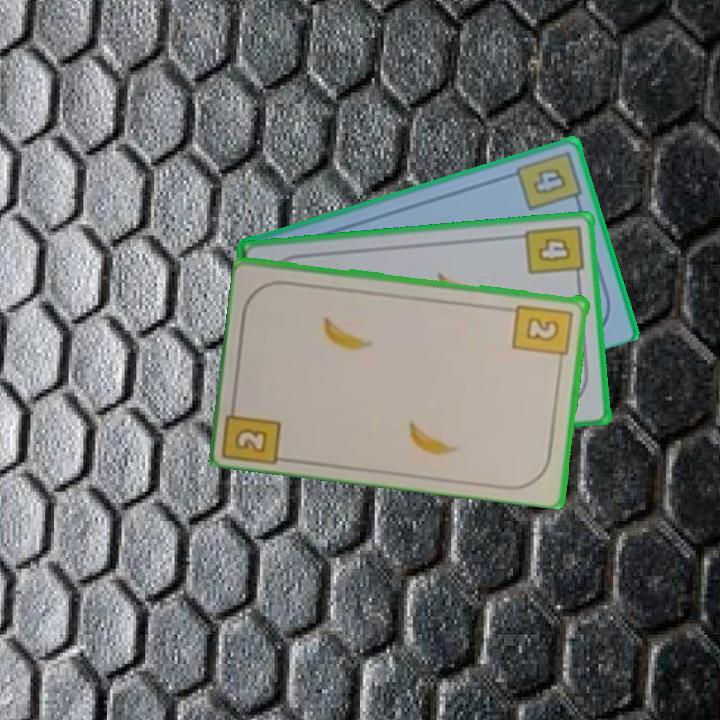2b: (222, 394, 285, 465), (510, 300, 576, 367)
4b: (512, 147, 585, 214), (521, 221, 586, 285)
